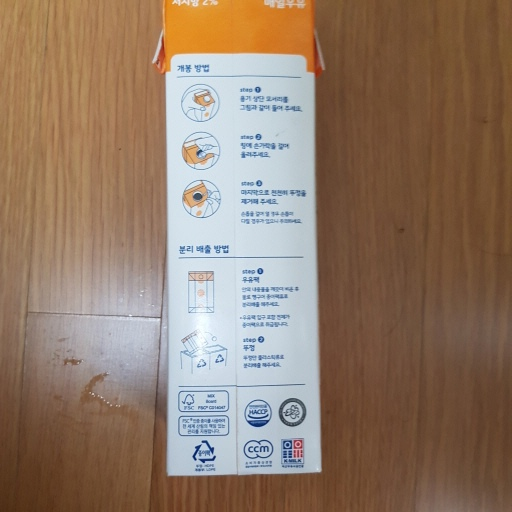Paper_0: (147, 1, 334, 483)
